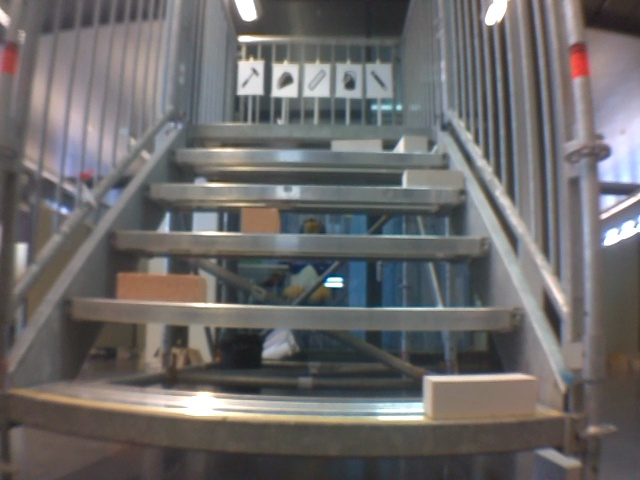brick: (424, 375, 537, 419), (116, 273, 207, 302), (403, 170, 463, 188), (242, 209, 280, 234), (332, 139, 381, 151), (396, 136, 427, 151)
bucket: (340, 69, 358, 92)
edge: (8, 392, 568, 454), (63, 299, 525, 329), (110, 231, 489, 254), (144, 183, 469, 202), (166, 148, 450, 165), (189, 124, 436, 136)
hammer: (239, 66, 260, 92)
pencil: (368, 70, 391, 94)
ruler: (305, 67, 327, 92)
stairs: (2, 3, 611, 478)
steps: (6, 120, 574, 463)
taco: (273, 69, 294, 91)
